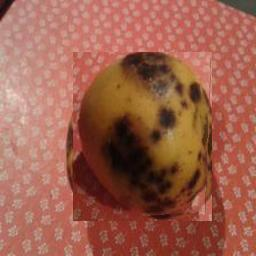Mango Rotten: (74, 52, 213, 221)
